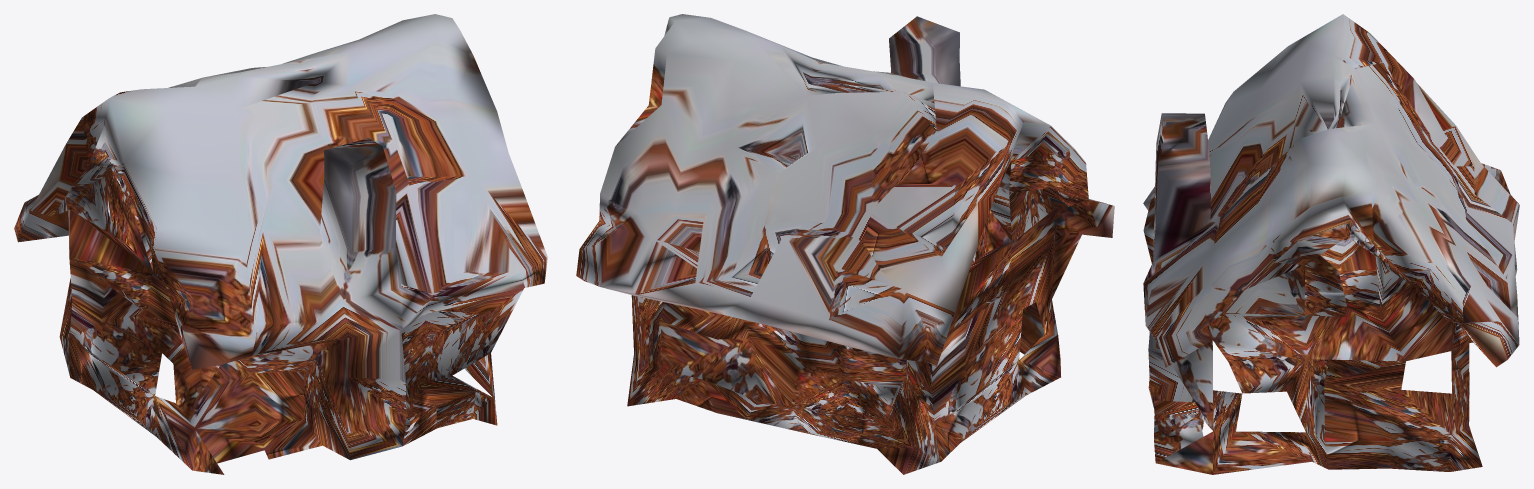
The model's file is snow-cabin-far-g8PcBBVR.glb.
The picture shows the model from 3 angles, left to right: view 1: azimuth 30°, elevation 25°; view 2: azimuth 150°, elevation 25°; view 3: azimuth 270°, elevation 25°; orthographic projection. The views are drawn at different scales.
Visible parts, largest first — view 1: tripo_node_4c4bdd3f-7da3-4095-8f41-320d92fac8e1; view 2: tripo_node_4c4bdd3f-7da3-4095-8f41-320d92fac8e1; view 3: tripo_node_4c4bdd3f-7da3-4095-8f41-320d92fac8e1.
Part boxes in pixels (x1,y1,x2,y2): tripo_node_4c4bdd3f-7da3-4095-8f41-320d92fac8e1: (14, 14, 547, 474); tripo_node_4c4bdd3f-7da3-4095-8f41-320d92fac8e1: (576, 14, 1114, 474); tripo_node_4c4bdd3f-7da3-4095-8f41-320d92fac8e1: (1143, 14, 1519, 474).
Size of the model in its own units: 0.9896 by 0.8557 by 0.9242.
Materials: 1 (1 with a texture image).
